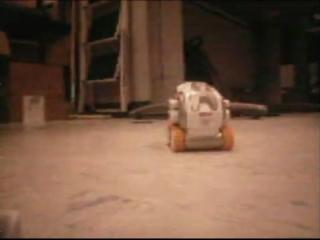cozmo: (165, 80, 235, 152)
